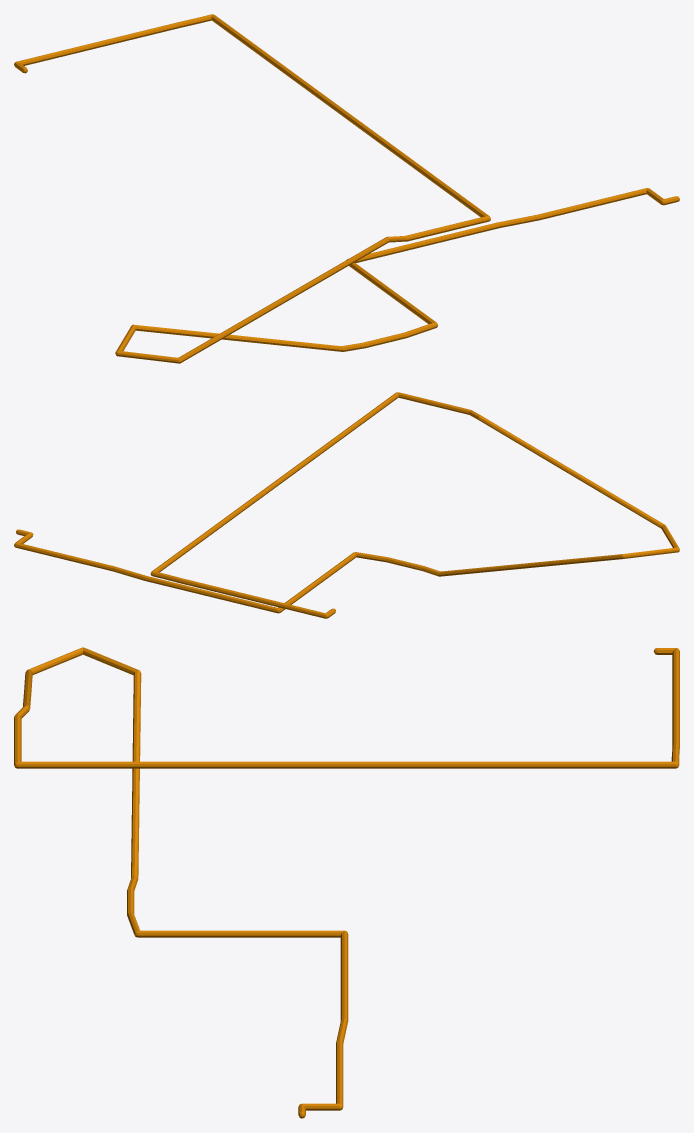
3 views of the same model, one above another, from view 1: azimuth 30°, elevation 25°; view 2: azimuth 150°, elevation 25°; view 3: azimuth 270°, elevation 25° (orthographic). The views are drawn at different scales.
Size of the model in its own units: 2406 by 520 by 1772.
